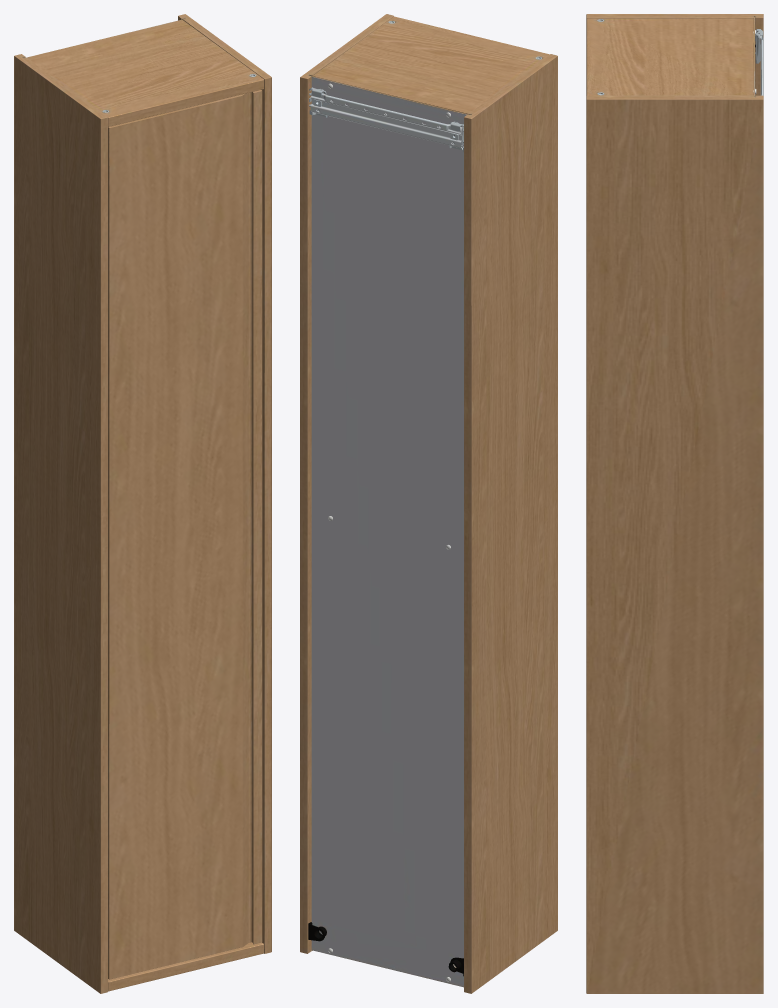
3 renders of one model, left to right at view 1: azimuth 30°, elevation 25°; view 2: azimuth 150°, elevation 25°; view 3: azimuth 270°, elevation 25°, orthographic. The views are drawn at different scales.
Visible parts, largest first — view 1: 80535079-Ãƒâ€žNGSJÃƒâ€“N001; view 2: 80535079-Ãƒâ€žNGSJÃƒâ€“N001; view 3: 80535079-Ãƒâ€žNGSJÃƒâ€“N001.
Part boxes in pixels (box(x1,y1,x2,y2)): 80535079-Ãƒâ€žNGSJÃƒâ€“N001: box(14, 14, 271, 993); 80535079-Ãƒâ€žNGSJÃƒâ€“N001: box(300, 14, 557, 993); 80535079-Ãƒâ€žNGSJÃƒâ€“N001: box(586, 14, 763, 993).
Size of the model in its own units: 0.4 by 1.95 by 0.35.
1 material, 1 textured.
